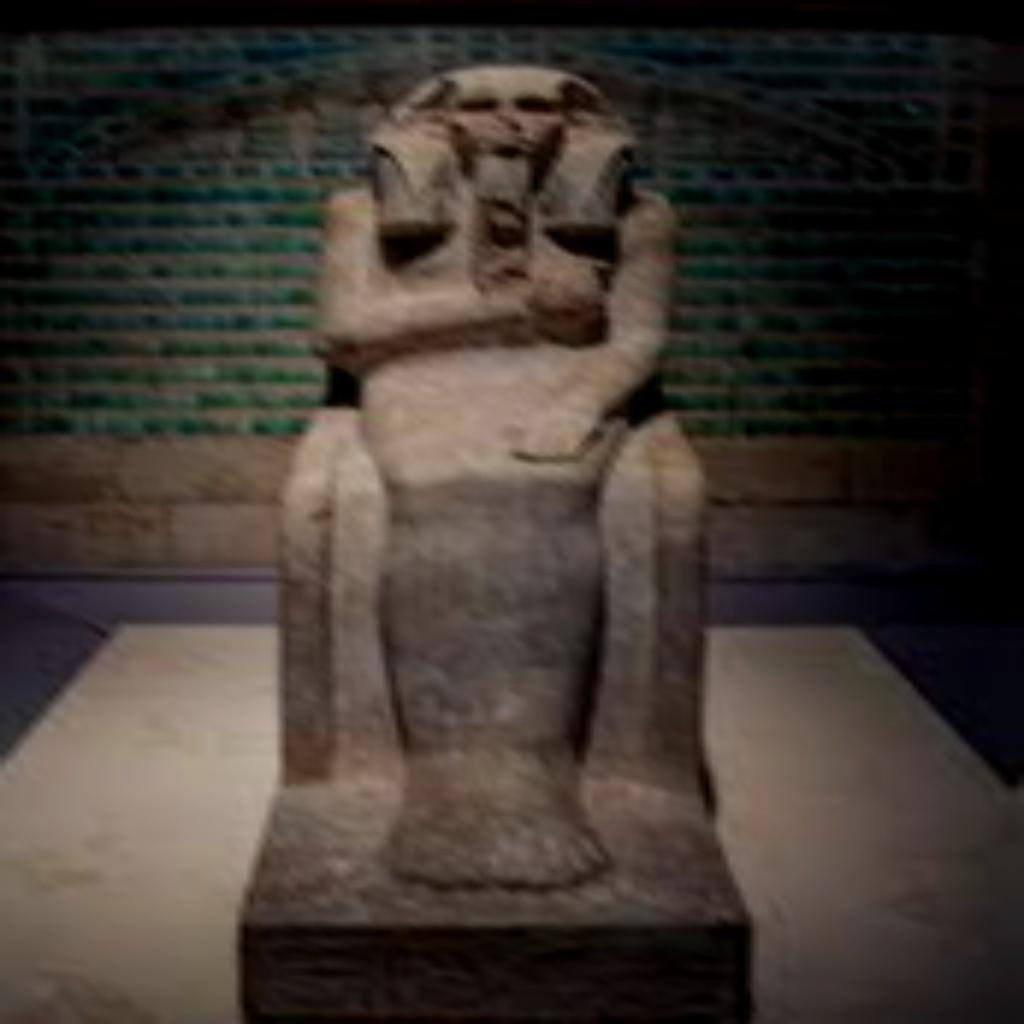Statue of King Zoser: (278, 60, 728, 898)
